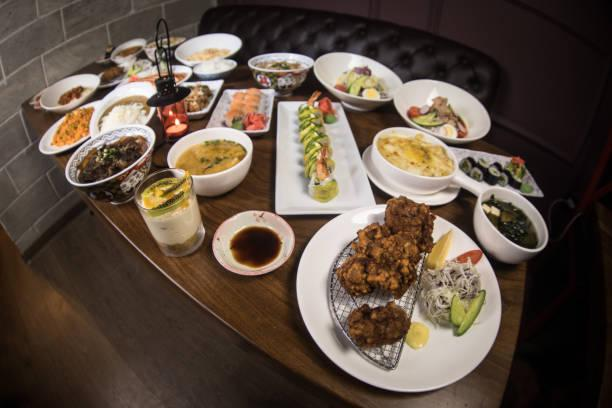Braised Crucian Carp: (294, 205, 500, 394), (273, 98, 374, 216), (363, 124, 465, 213), (392, 68, 497, 145), (65, 122, 162, 205), (166, 127, 257, 203), (472, 186, 548, 265), (314, 46, 402, 113)
